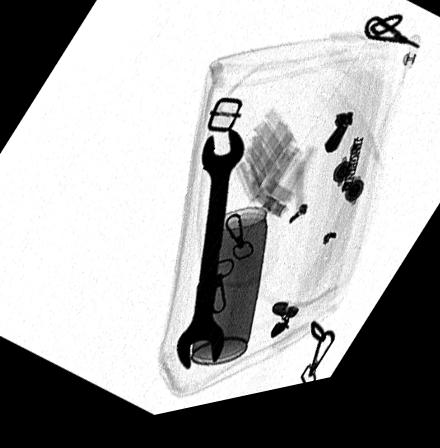Wrench: (173, 138, 244, 376)
